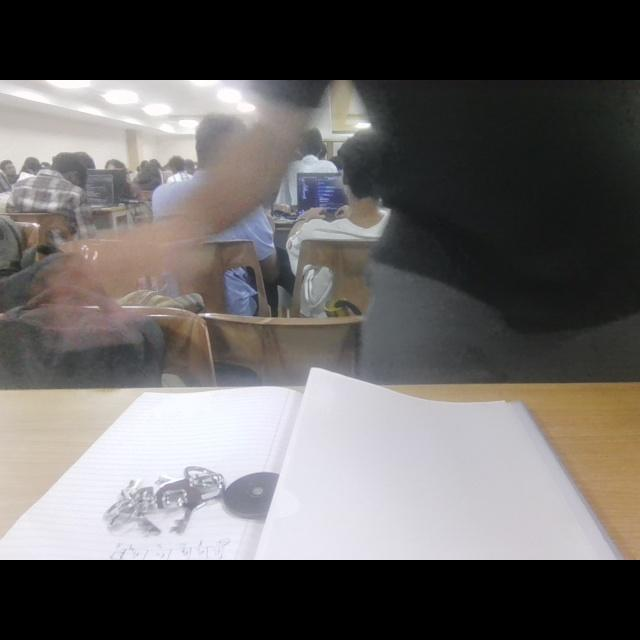keys: (105, 449, 285, 547)
